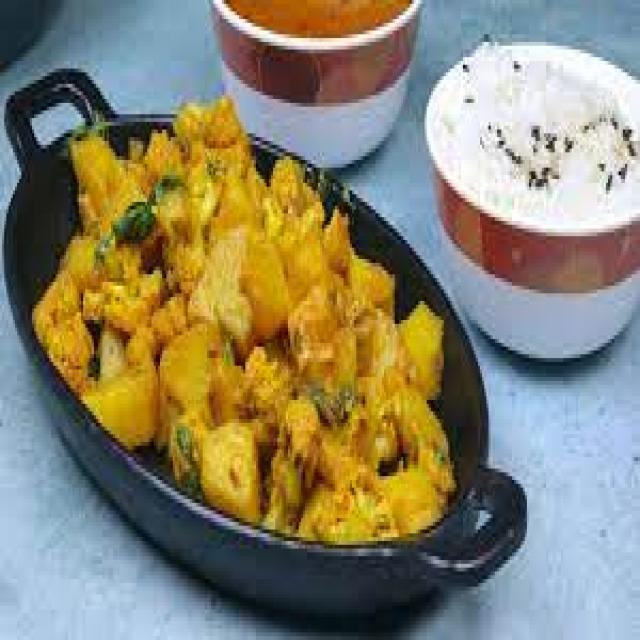Aloo Gobi: (161, 191, 356, 492)
